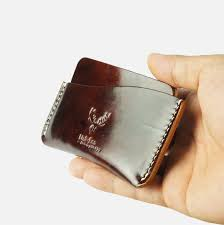monedero: (42, 57, 186, 187)
